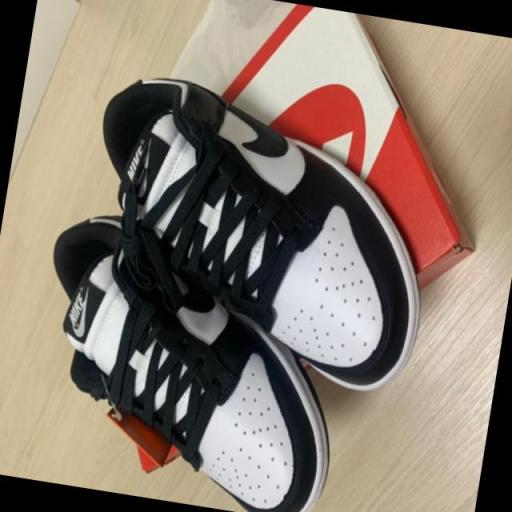Nike: (76, 293, 92, 338), (66, 292, 86, 326)
